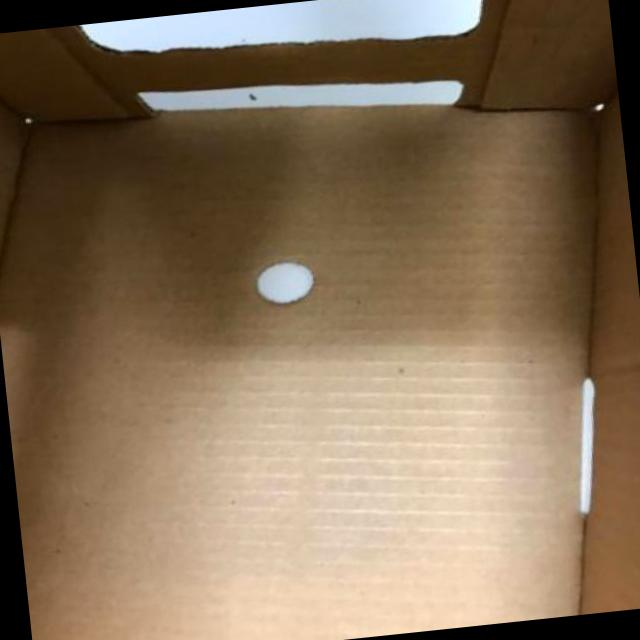cardboard paper: (0, 108, 592, 640)
